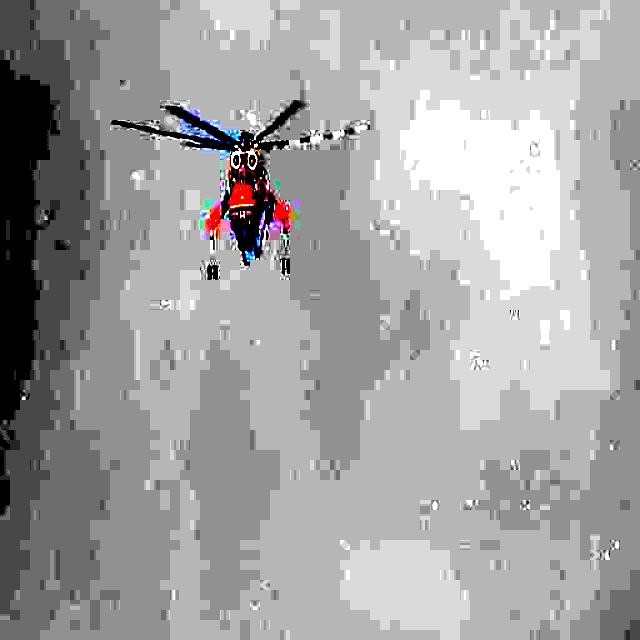drone: (106, 85, 374, 286)
